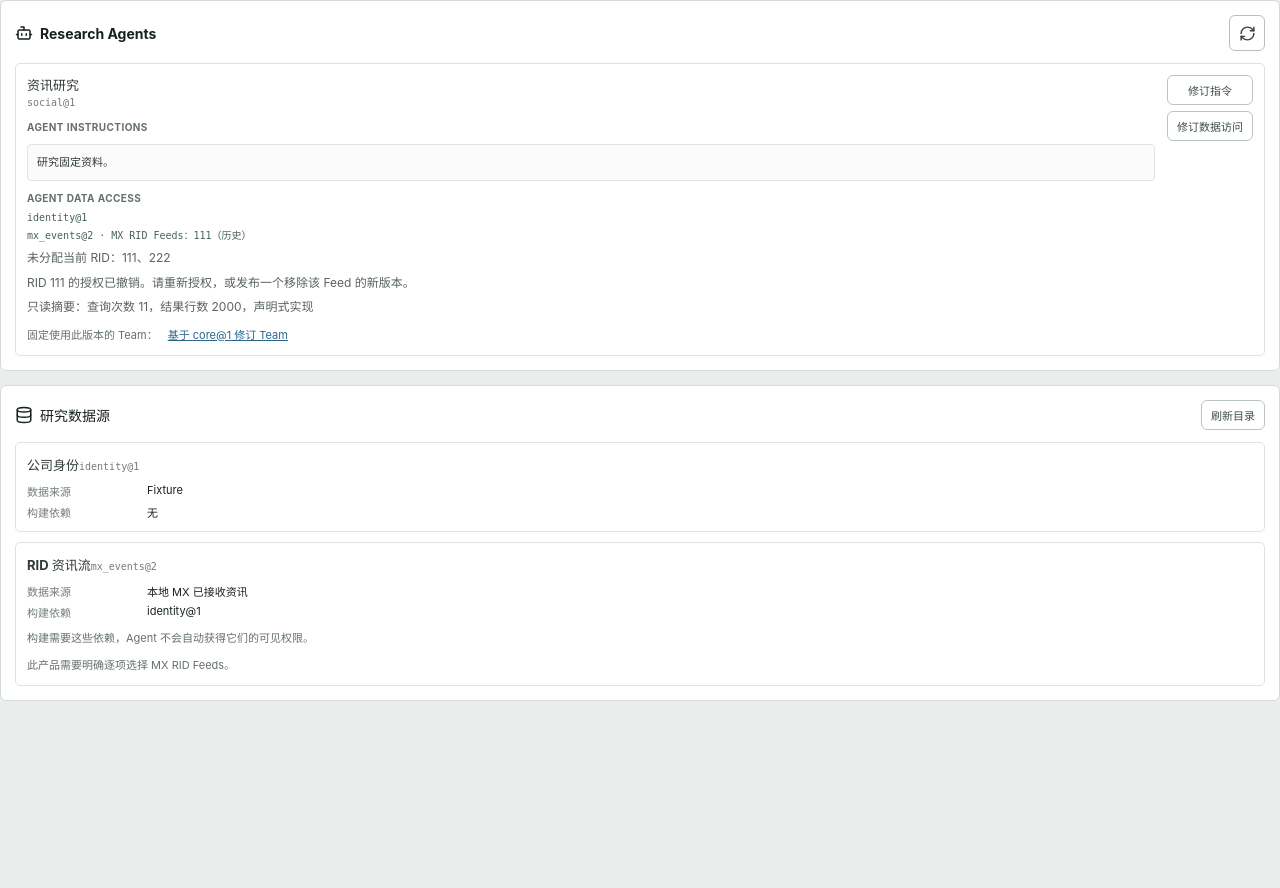
Scenario: Agent access panel › keeps a revoked Feed blocked until it is removed
Check: the text "RID 111 的授权已撤销。请重新授权，或发布一个移除该 Feed 的新版本。" is shown, box [27,275,415,290]
Click the button "修订数据访问". click: (1210, 126)
box: [1167,111,1253,141]
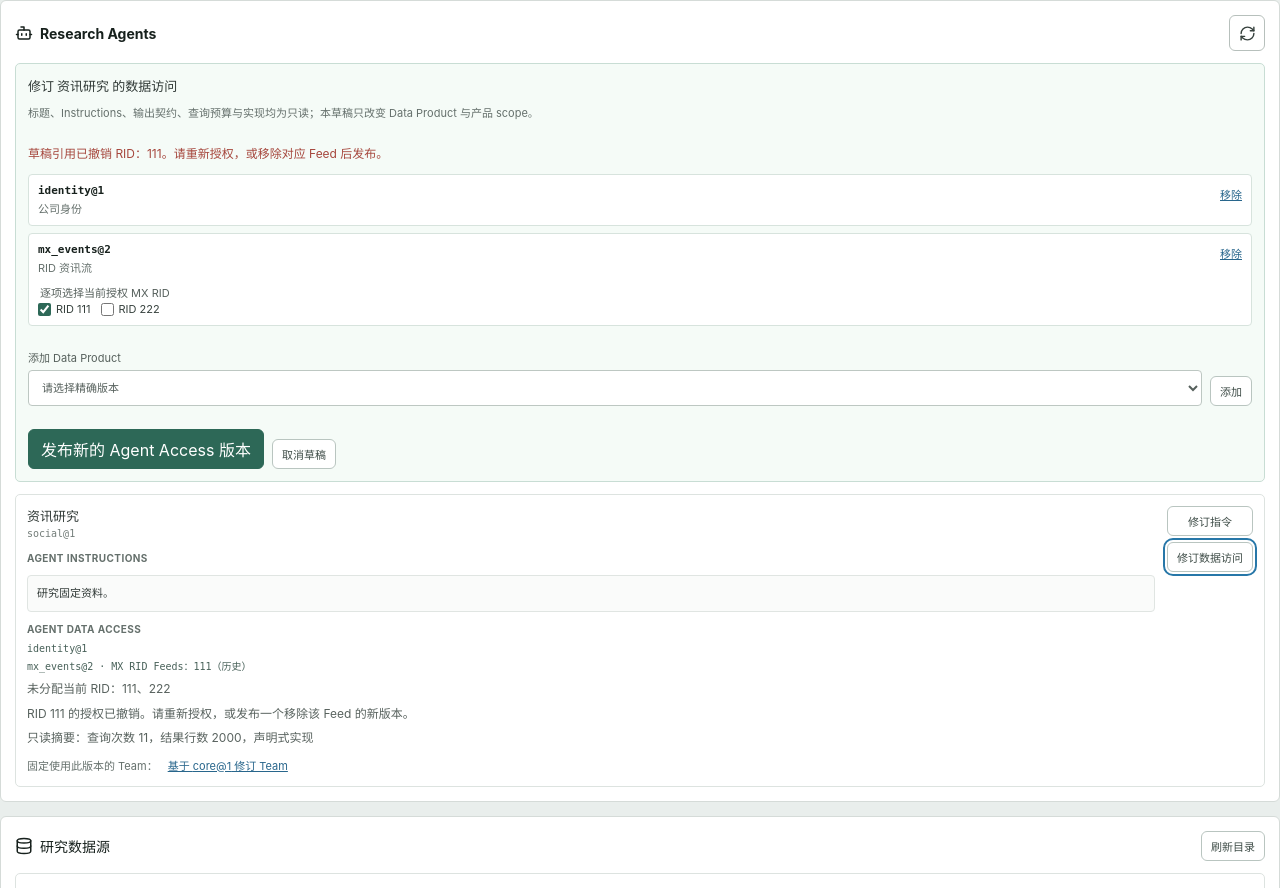
Check: the message shows "草稿引用已撤销 RID：111", box [28,146,388,161]
Click the 2nd button "移除". click: (1231, 253)
box: [1220,243,1242,263]
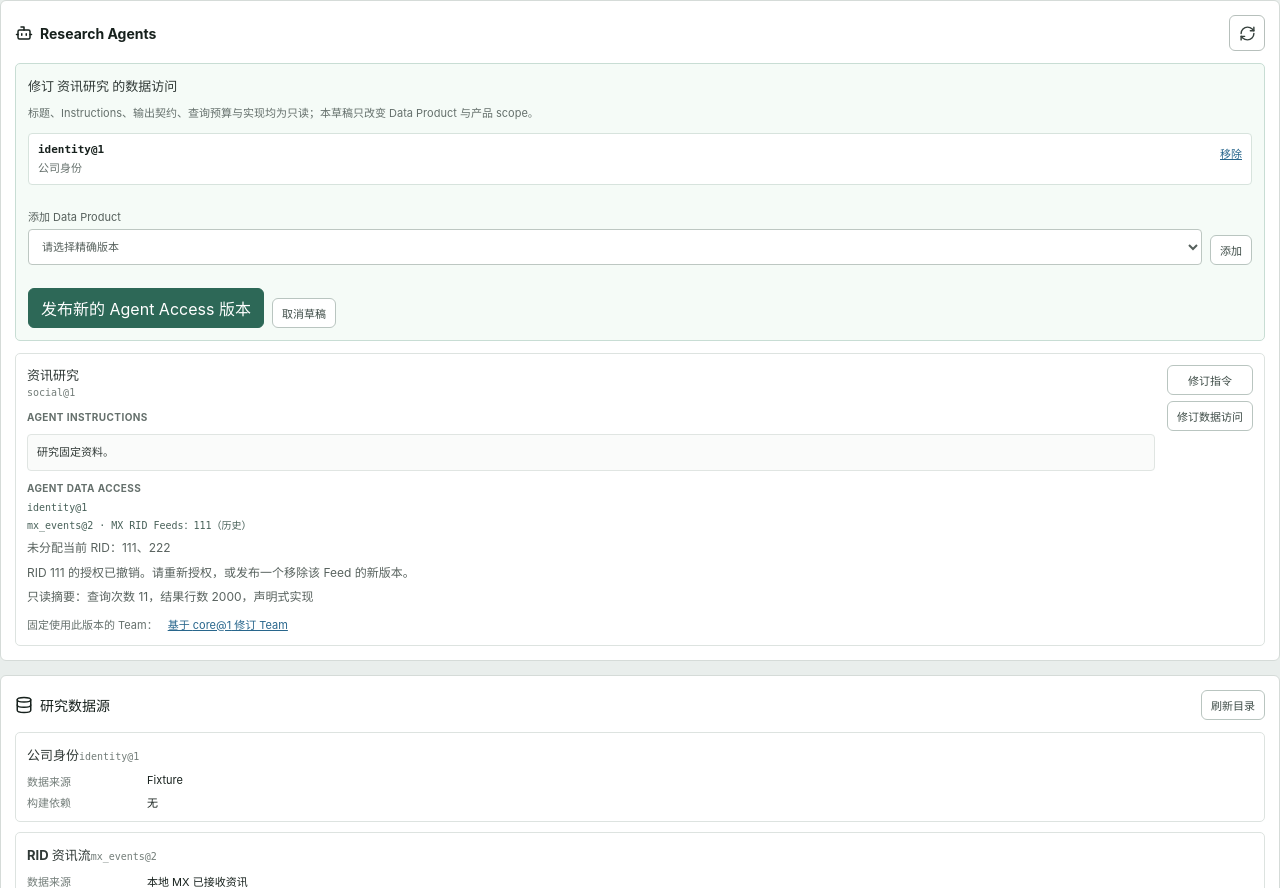
Check: the text "草稿引用已撤销 RID：111" is gone
